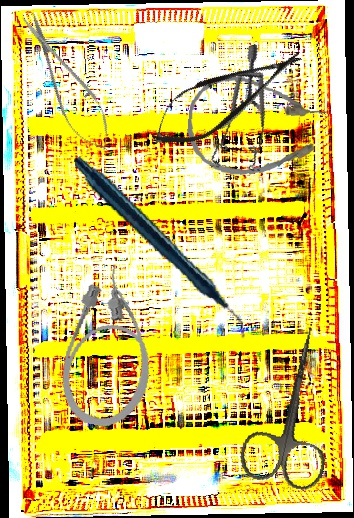Cannula: (52, 258, 171, 434), (183, 71, 330, 184)
Handpiece: (73, 135, 246, 361)
Iris Scissors: (235, 319, 354, 494)
Micro Scissor: (139, 31, 313, 162), (10, 4, 123, 161)
Speculum: (177, 43, 296, 186)
